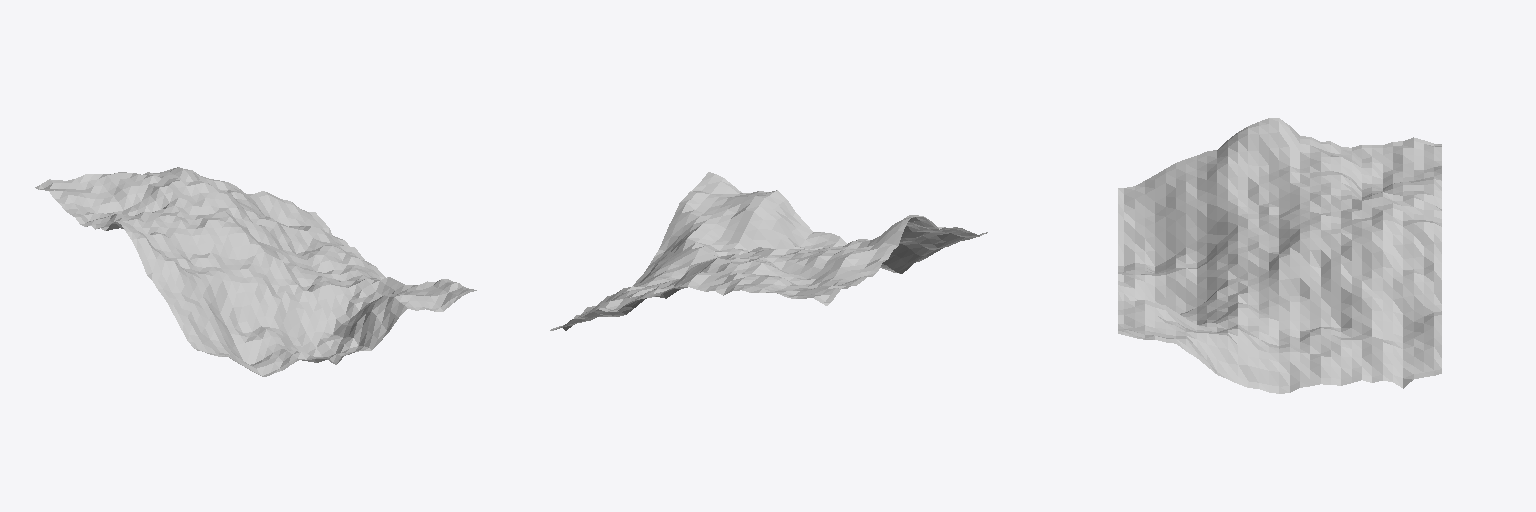
File: heightmap.032.obj
3 renders of one model, left to right at view 1: azimuth 30°, elevation 25°; view 2: azimuth 150°, elevation 25°; view 3: azimuth 270°, elevation 25°, orthographic.
Visible parts, largest first — view 1: heightmap.032_Plane.032; view 2: heightmap.032_Plane.032; view 3: heightmap.032_Plane.032.
Part boxes in pixels (bbox=[...]): heightmap.032_Plane.032: bbox=[35, 167, 476, 376]; heightmap.032_Plane.032: bbox=[550, 172, 987, 330]; heightmap.032_Plane.032: bbox=[1118, 118, 1441, 393].
Size of the model in its own units: 32 by 15.17 by 32.